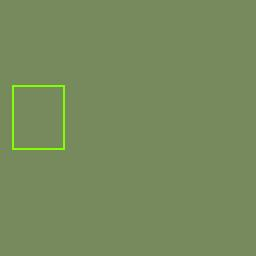Safety Vest: (12, 84, 65, 149)
